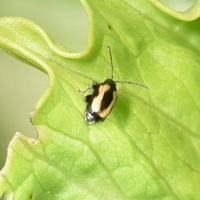insect: (78, 45, 147, 123)
